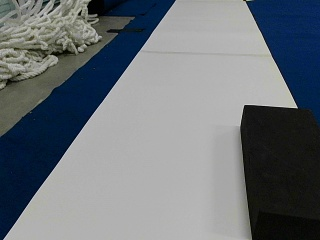block: (242, 104, 320, 236)
